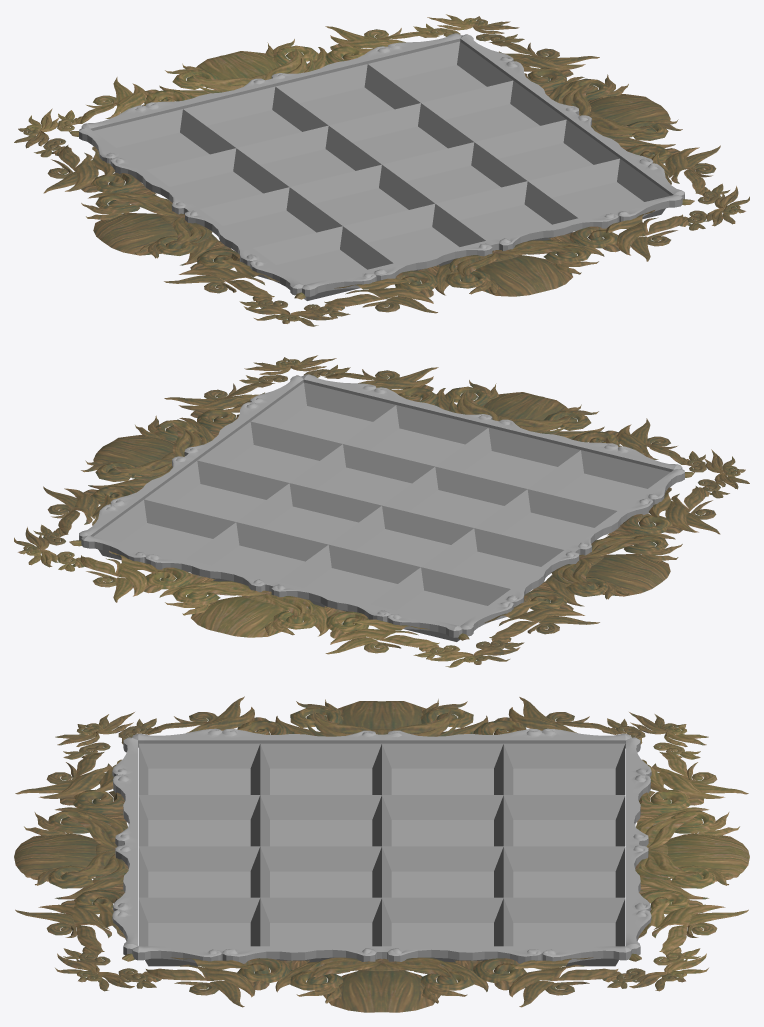
Rendered from marco 4x4.fbx.
3 views of the same model, one above another, from view 1: azimuth 30°, elevation 25°; view 2: azimuth 150°, elevation 25°; view 3: azimuth 270°, elevation 25° (orthographic). The views are drawn at different scales.
Visible parts, largest first — view 1: polySurface332; view 2: polySurface332; view 3: polySurface332.
Part boxes in pixels (bbox=[...]): polySurface332: bbox=[14, 14, 749, 326]; polySurface332: bbox=[14, 355, 749, 667]; polySurface332: bbox=[14, 696, 749, 1012].
Size of the model in its own units: 108 by 4.36 by 108.
